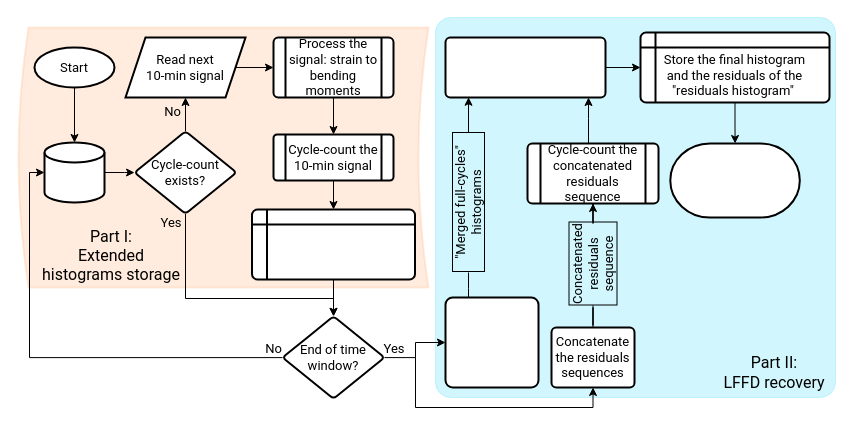
The diagram is 853 pixels wide and 433 high, and some of its shapes have lost their labels. The shapes that lost their labels are listed below. From the top down, each one's centre as x and y in pixels, then its label:
point 525,67: Merge the "merged full cycles" histograms and the residuals histogram
point 74,172: 10-min data
point 734,180: Long-term load histogram (End)
point 333,244: Store "full cycles" histogram and time sequence of residuals
point 491,342: Dump the half cycles from the "full cycles" histograms and merge them
